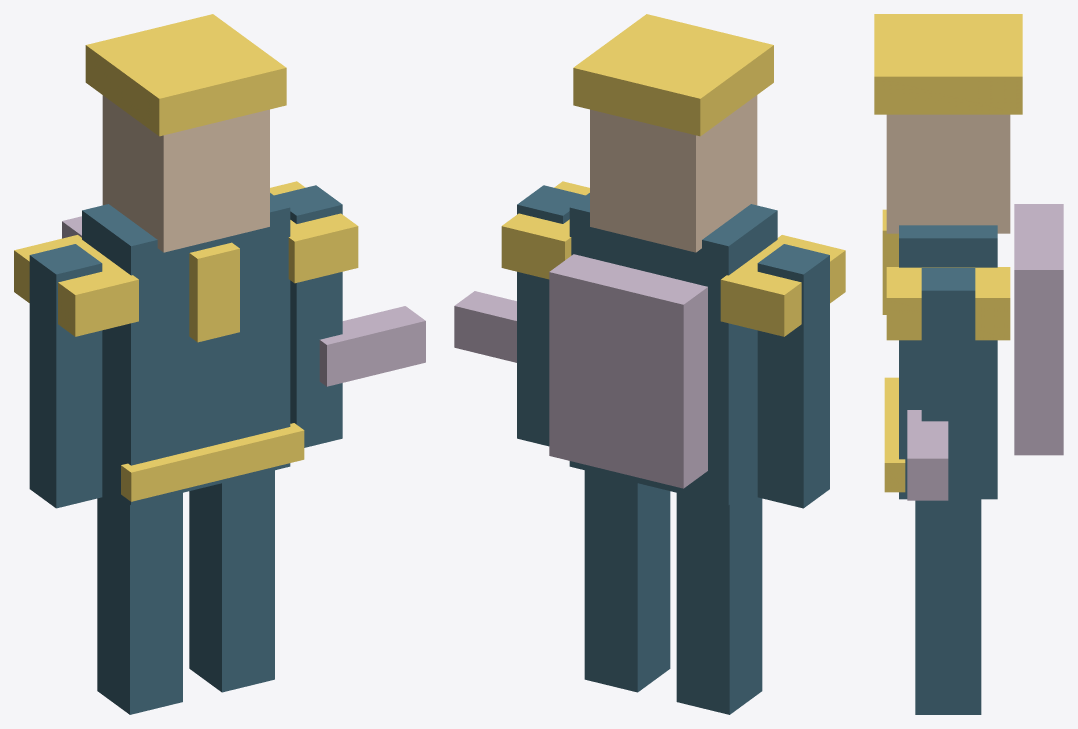
The model's file is 09_orin_runeclasp_keeper_near_hammer.glb.
The picture shows the model from 3 angles, left to right: view 1: azimuth 30°, elevation 25°; view 2: azimuth 150°, elevation 25°; view 3: azimuth 270°, elevation 25°; orthographic projection.
Parts seen in each view (by area): view 1: Orin Runeclasp, Keeper near Hammer; view 2: Orin Runeclasp, Keeper near Hammer; view 3: Orin Runeclasp, Keeper near Hammer.
Boxes of the visible parts, left/top/right/bottom form: Orin Runeclasp, Keeper near Hammer: left=14, top=14, right=425, bottom=714; Orin Runeclasp, Keeper near Hammer: left=454, top=14, right=845, bottom=714; Orin Runeclasp, Keeper near Hammer: left=874, top=14, right=1063, bottom=714.
Size of the model in its own units: 0.9597 by 1.59 by 0.4307.
